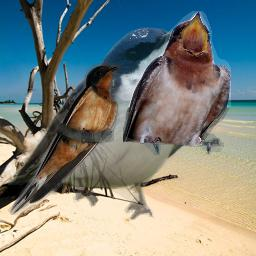Swallow: (8, 27, 202, 221), (5, 61, 124, 215), (123, 11, 231, 155)
